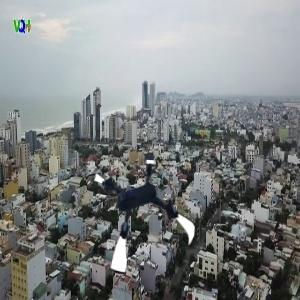drone: (82, 160, 200, 278)
